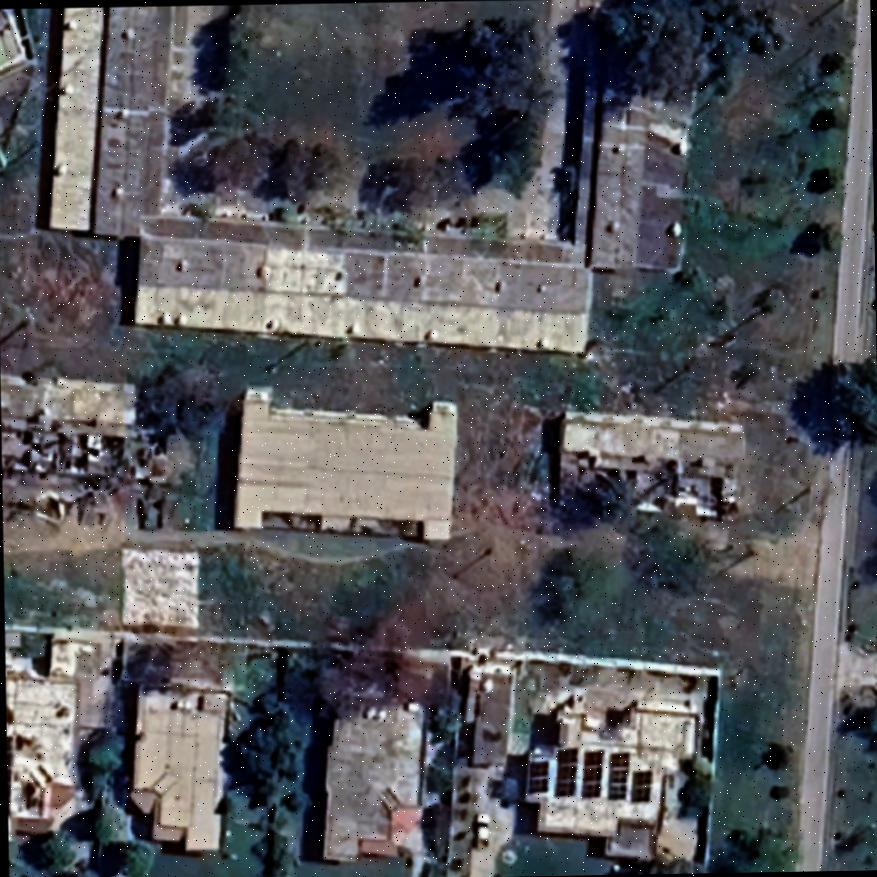Solarpanel: (549, 742, 581, 802), (602, 746, 632, 804), (575, 746, 604, 802), (520, 748, 550, 798), (626, 763, 656, 806)
